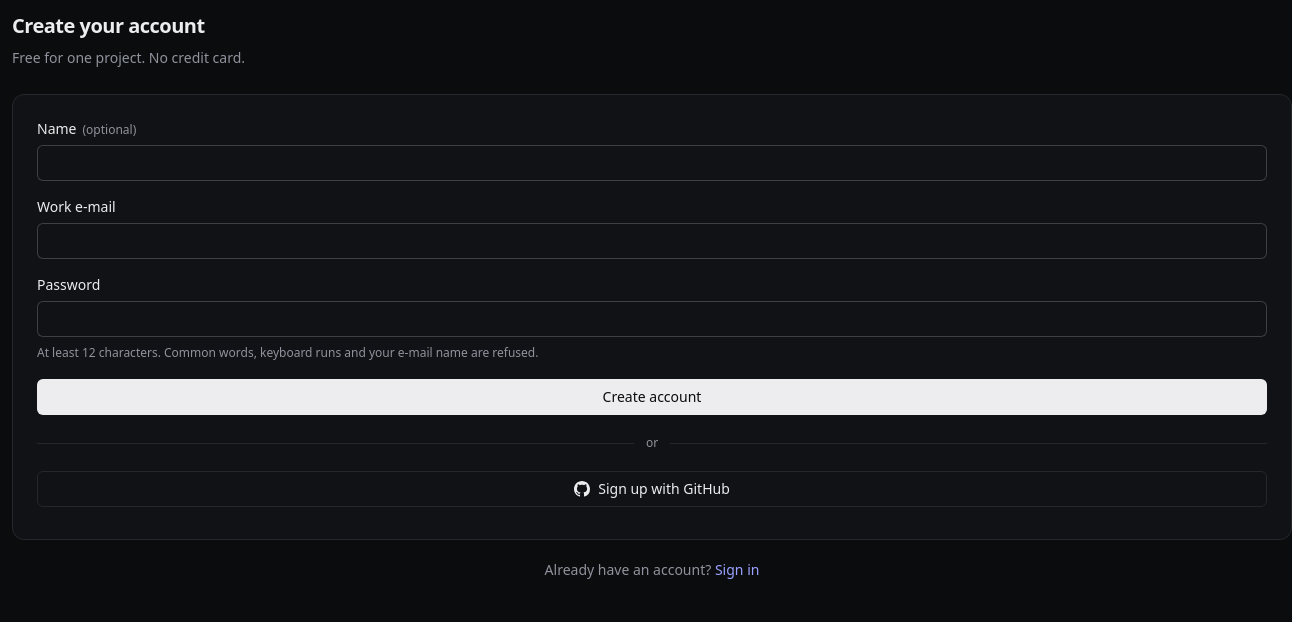
Test: SignupForm › rejects a short password client-side with an accessible error
The image size is (1292, 622).
Type "dev@acme.io" into the field labelled "Work e-mail" at (652, 241), box [37, 223, 1267, 259]
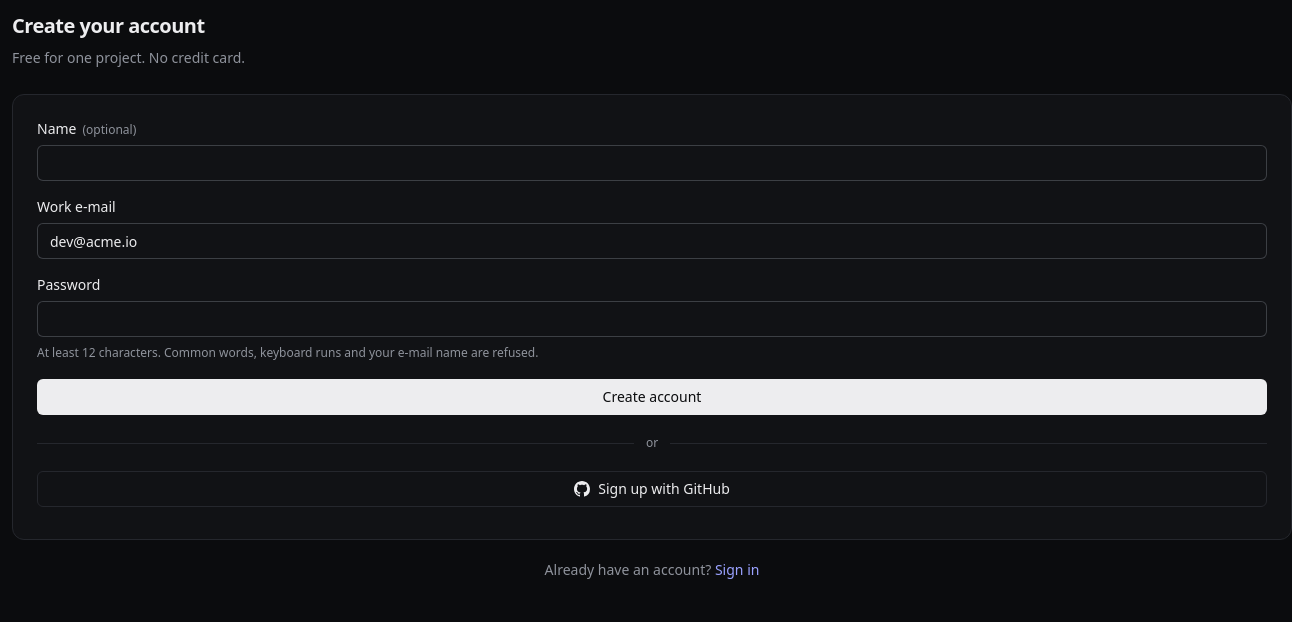
Type "short" into the password field labelled "Password" at (652, 319), box [37, 301, 1267, 337]
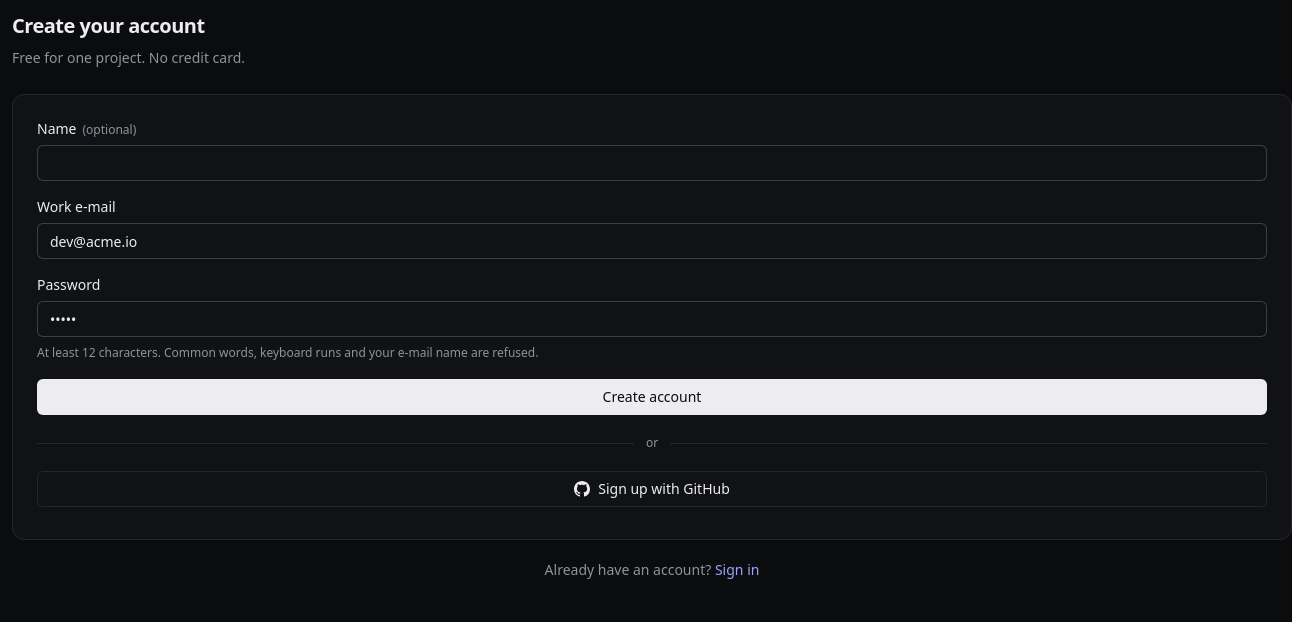
Submit the form named "Create your account", box [37, 119, 1267, 415]
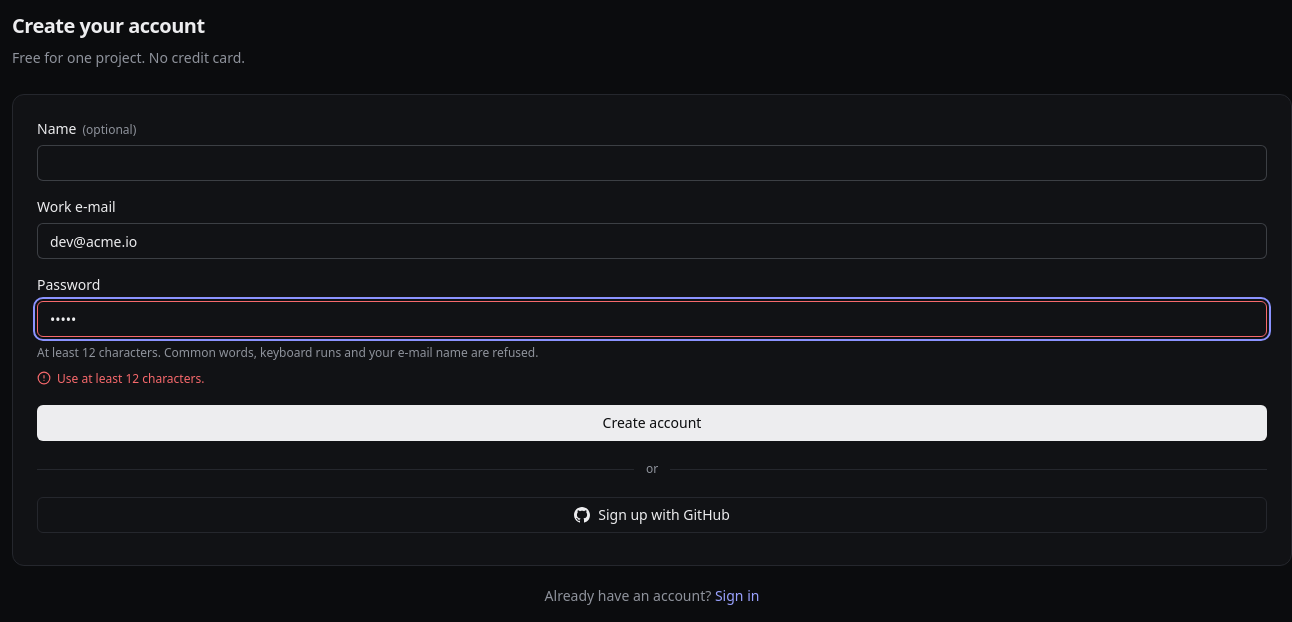
Expected: the text "Use at least 12 characters." is shown, [37, 370, 204, 387]
